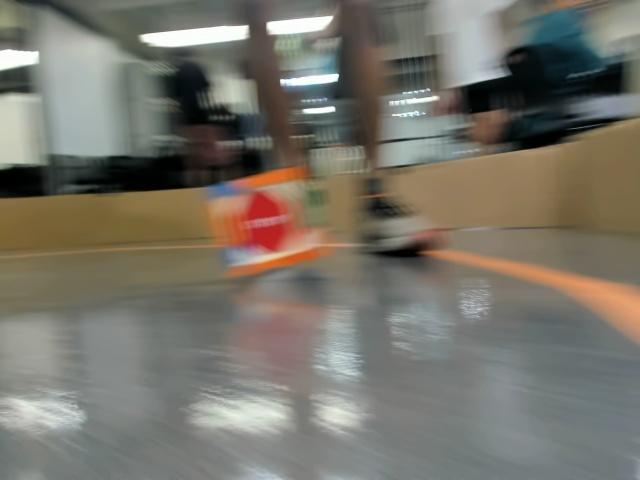Stop: (236, 200, 283, 257)
